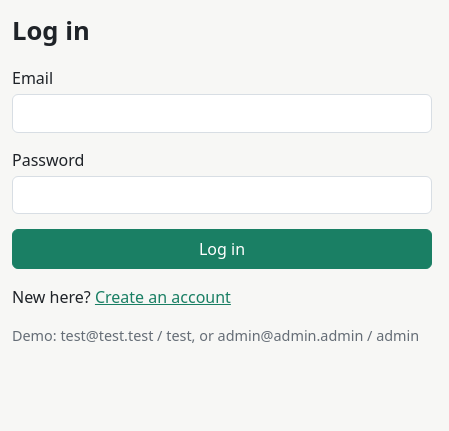
Test: LoginPage › shows the problem detail returned by the API
In the field labelled "Email": (222, 114) [12,94,432,133], type "ana@example.com"
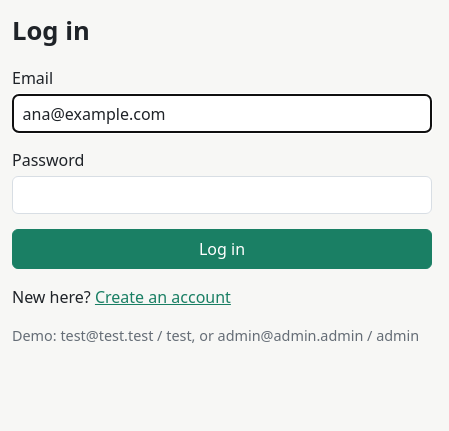
In the password field labelled "Password": (222, 195) [12,176,432,214], type "wrong"
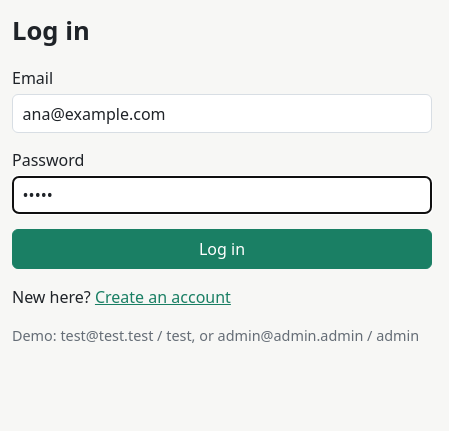
Click the button "Log in": click(222, 249) [12,229,432,269]
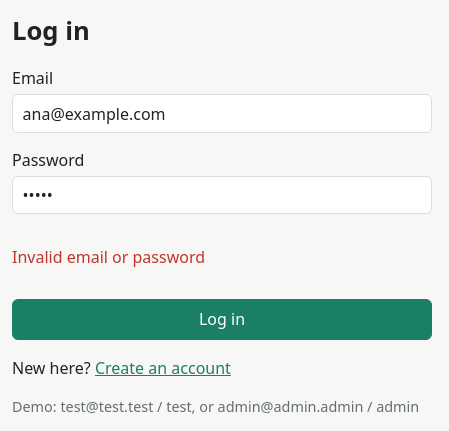
Expected: the message reads "Invalid email or password", [12,246,205,268]
